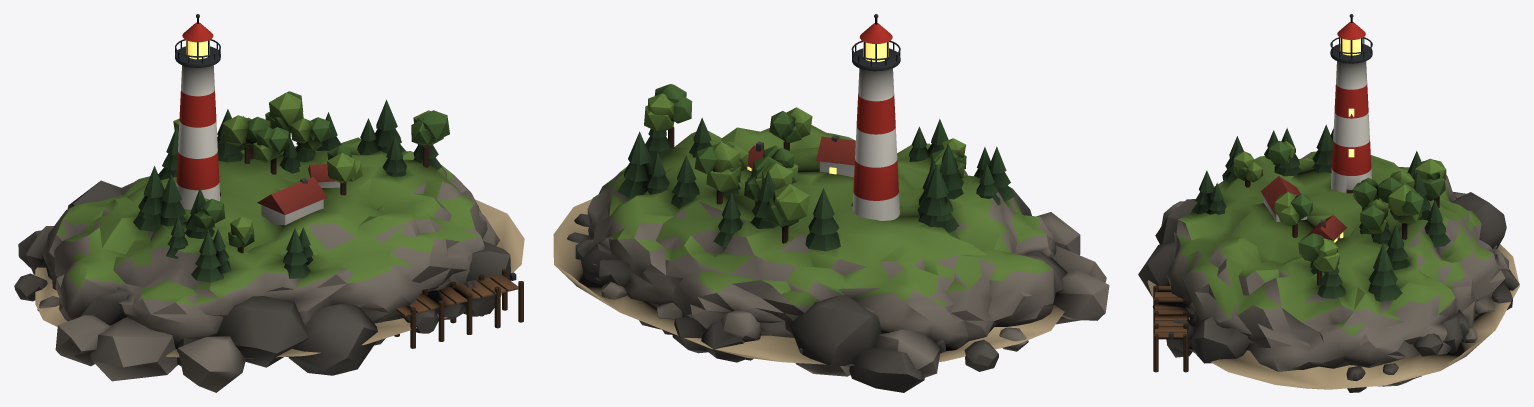
File: island_lighthouse.glb
The picture shows the model from 3 angles, left to right: view 1: azimuth 30°, elevation 25°; view 2: azimuth 150°, elevation 25°; view 3: azimuth 270°, elevation 25°; orthographic projection. The views are drawn at different scales.
Parts seen in each view (by area): view 1: island_lighthouse; view 2: island_lighthouse; view 3: island_lighthouse.
Part boxes in pixels (<box>): island_lighthouse: <box>14,14,524,392</box>; island_lighthouse: <box>553,14,1109,392</box>; island_lighthouse: <box>1138,14,1519,392</box>.
Bounding box in the file's own units: 4.07 × 2.46 × 3.07.
